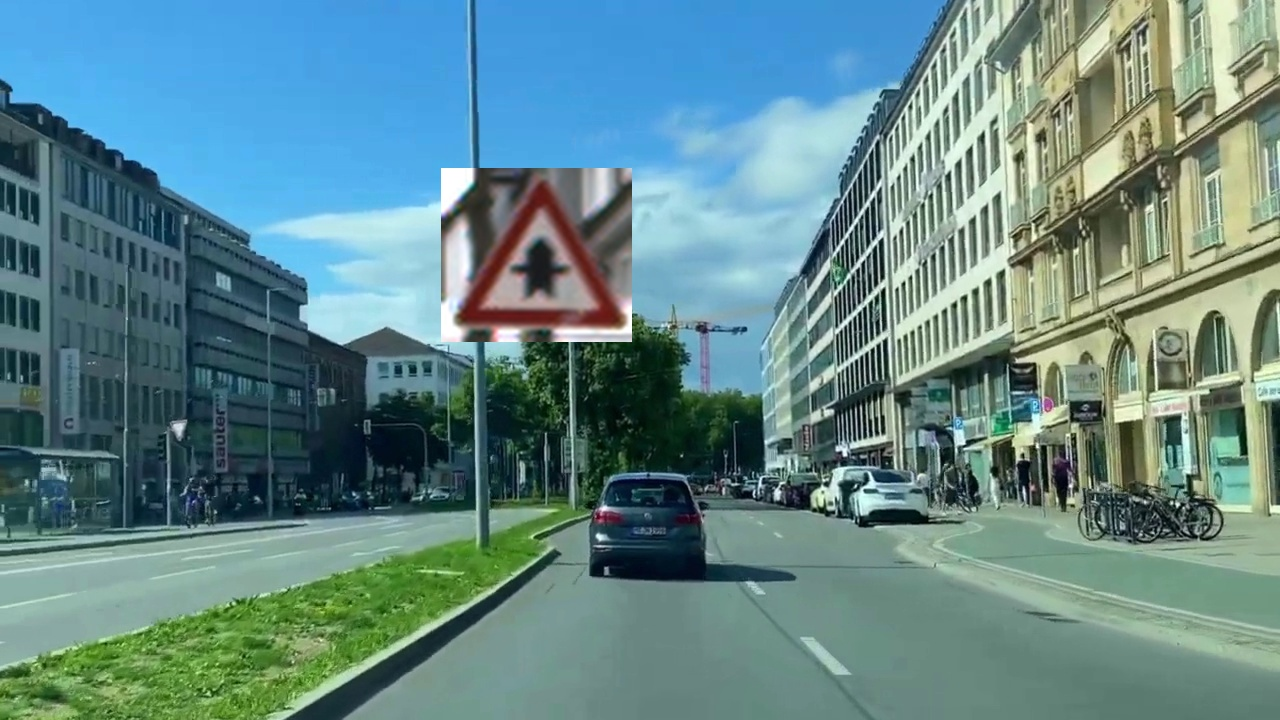Right-of-way: (441, 168, 632, 342)
